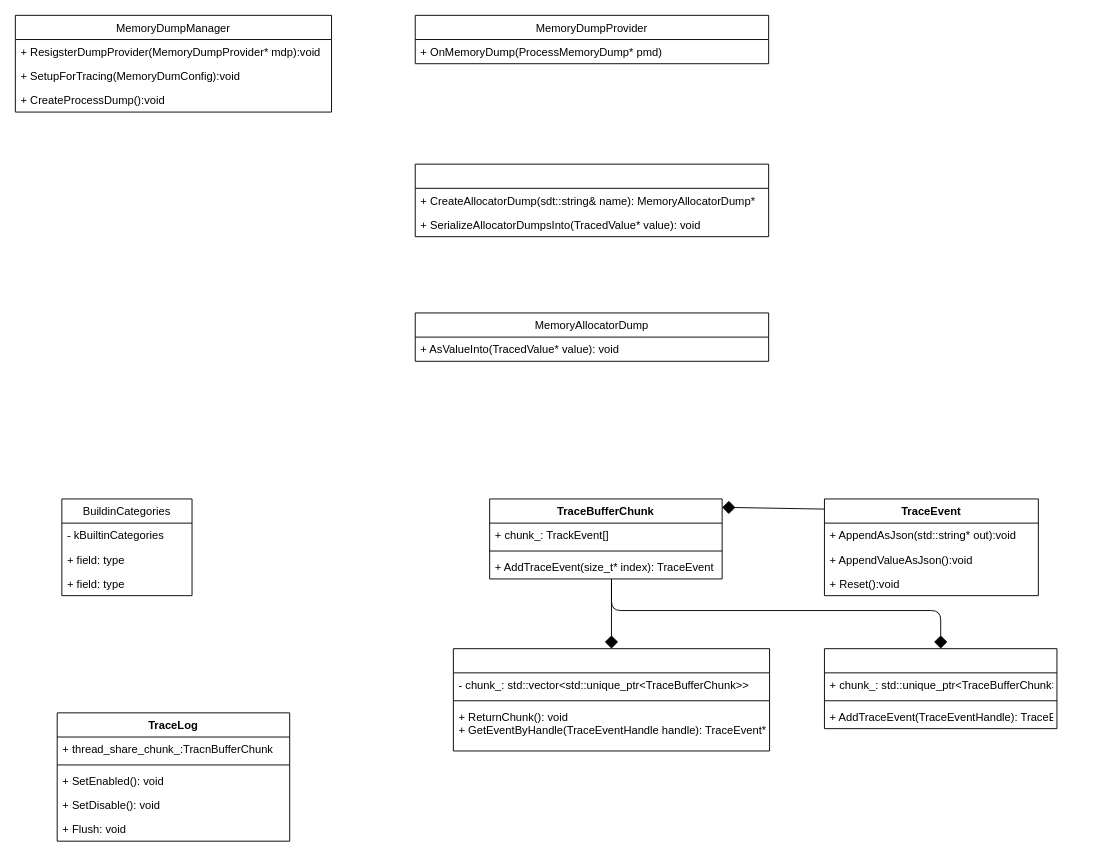
Image size: 1093x857. Some labels were removed from this diagram. Each missing label, with the box of its shape:
ProcessMemoryDump: (414, 163, 769, 237)
ThreadLocalEventBuffer: (824, 648, 1057, 729)
TraceBuffer: (452, 648, 770, 751)
